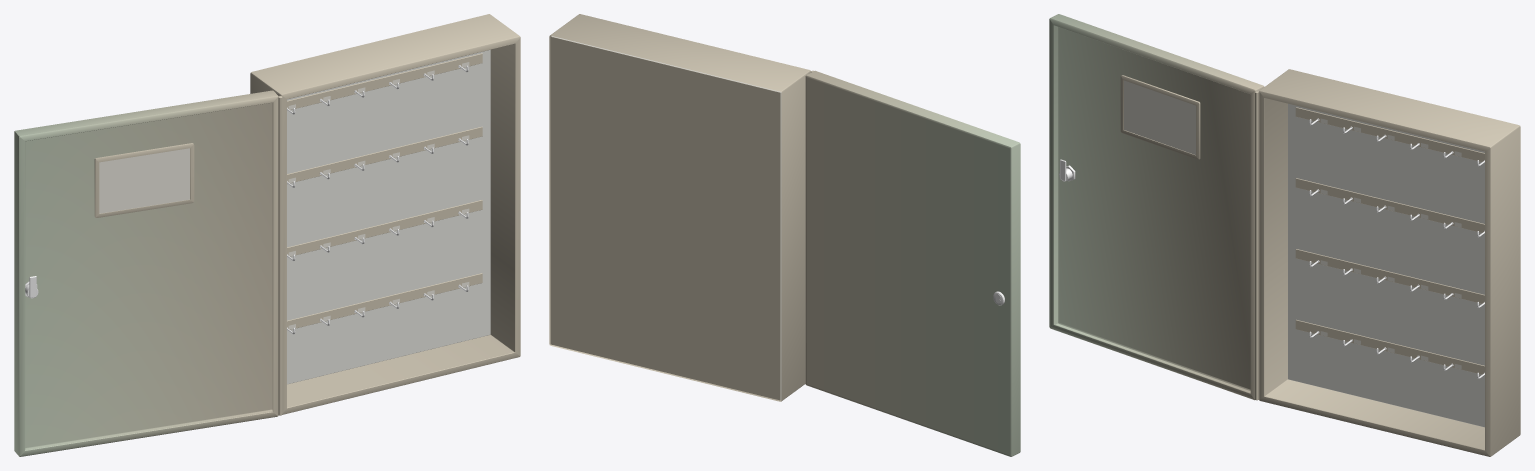
File: Kit_KeyCabinet.fbx
3 renders of one model, left to right at view 1: azimuth 30°, elevation 25°; view 2: azimuth 150°, elevation 25°; view 3: azimuth 330°, elevation 25°, orthographic. The views are drawn at different scales.
Visible parts, largest first — view 1: Kit_KeyCabinet_LOD0; view 2: Kit_KeyCabinet_LOD0; view 3: Kit_KeyCabinet_LOD0.
Boxes of the visible parts, box(x1,y1,x2,y2) form: Kit_KeyCabinet_LOD0: box(14, 14, 520, 456); Kit_KeyCabinet_LOD0: box(549, 14, 1020, 456); Kit_KeyCabinet_LOD0: box(1049, 14, 1520, 456).
Size of what is drawn, in the model's own units: 0.7188 by 0.46 by 0.0838.
